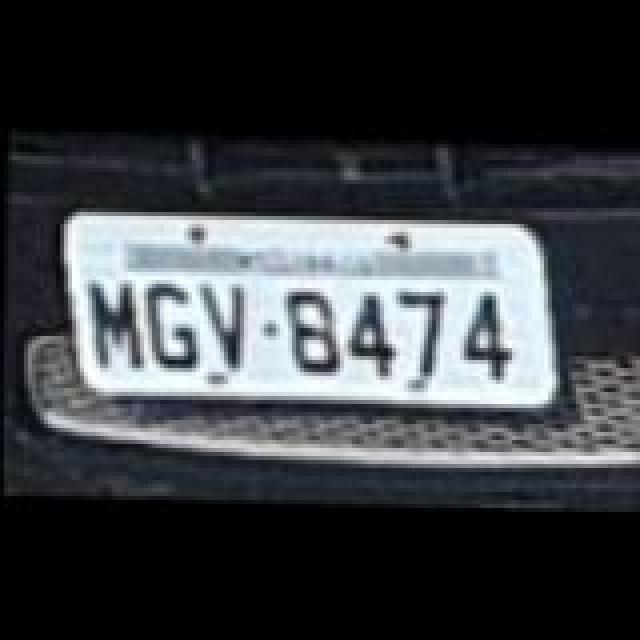4: (334, 286, 406, 378), (452, 288, 520, 384)
7: (388, 286, 456, 382)
8: (276, 284, 352, 376)
G: (134, 274, 206, 370)
M: (78, 276, 150, 372)
V: (192, 274, 260, 370)
